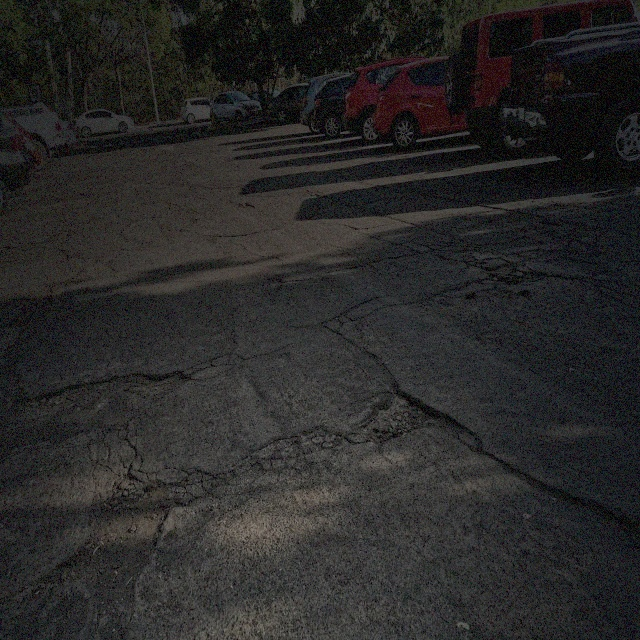pothole: (64, 481, 178, 631), (30, 359, 193, 450), (356, 382, 466, 443), (487, 262, 538, 284)
